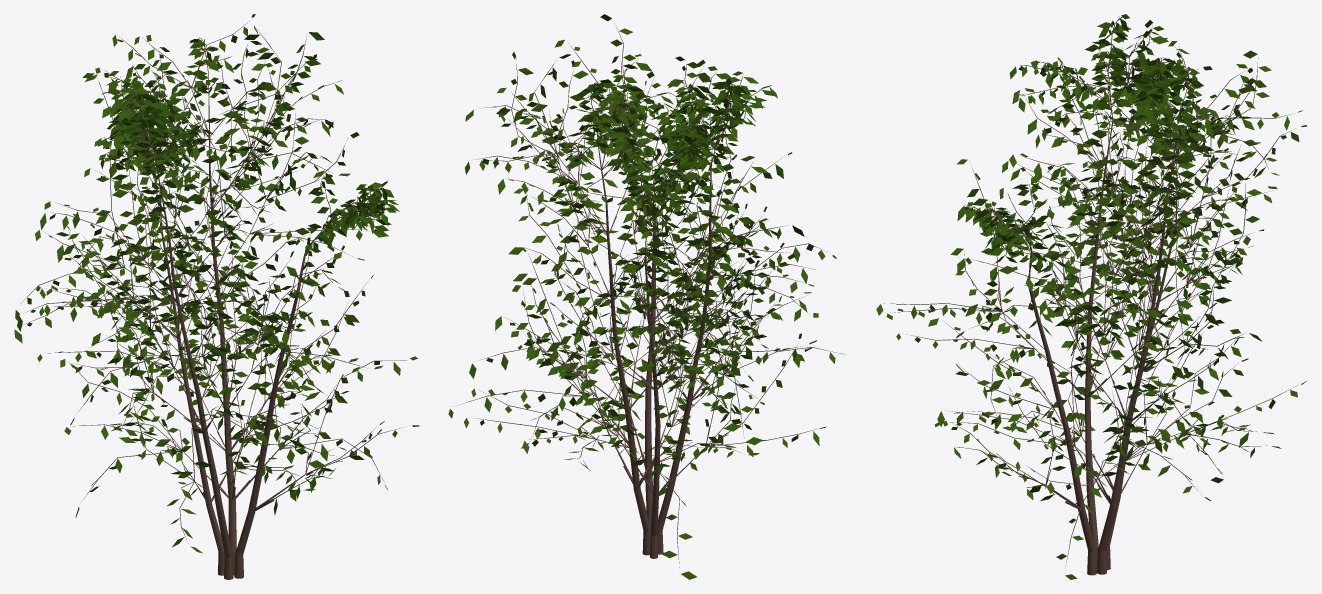
Rendered from buske_3m.gltf.
The picture shows the model from 3 angles, left to right: view 1: azimuth 30°, elevation 25°; view 2: azimuth 150°, elevation 25°; view 3: azimuth 270°, elevation 25°; orthographic projection.
Visible parts, largest first — view 1: root; view 2: root; view 3: root.
Part boxes in pixels (x1,y1,x2,y2): root: [14, 14, 419, 579]; root: [448, 14, 845, 579]; root: [876, 14, 1306, 579].
Bounding box in the file's own units: 1.96 × 2.97 × 2.24.
